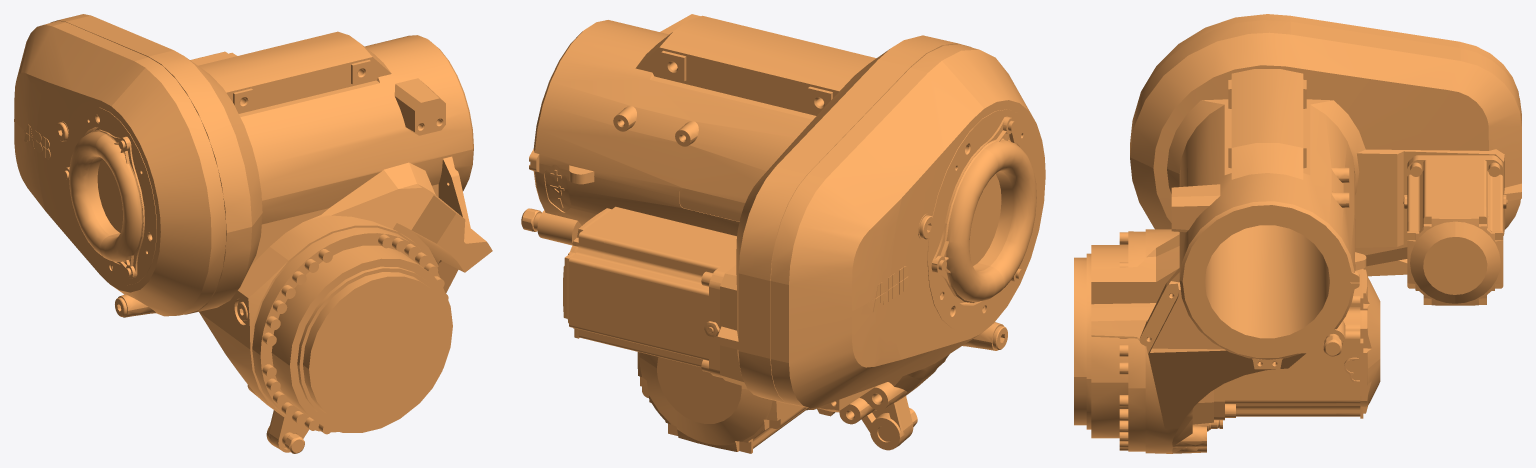
3 renders of one model, left to right at view 1: azimuth 30°, elevation 25°; view 2: azimuth 150°, elevation 25°; view 3: azimuth 270°, elevation 25°, orthographic. The views are drawn at different scales.
Parts seen in each view (by area): view 1: mesh_0; view 2: mesh_0; view 3: mesh_0.
Part boxes in pixels (bbox=[...]): mesh_0: bbox=[14, 14, 492, 453]; mesh_0: bbox=[521, 14, 1045, 453]; mesh_0: bbox=[1074, 14, 1521, 453].
Size of the model in its own units: 0.5649 by 0.567 by 0.6072.
